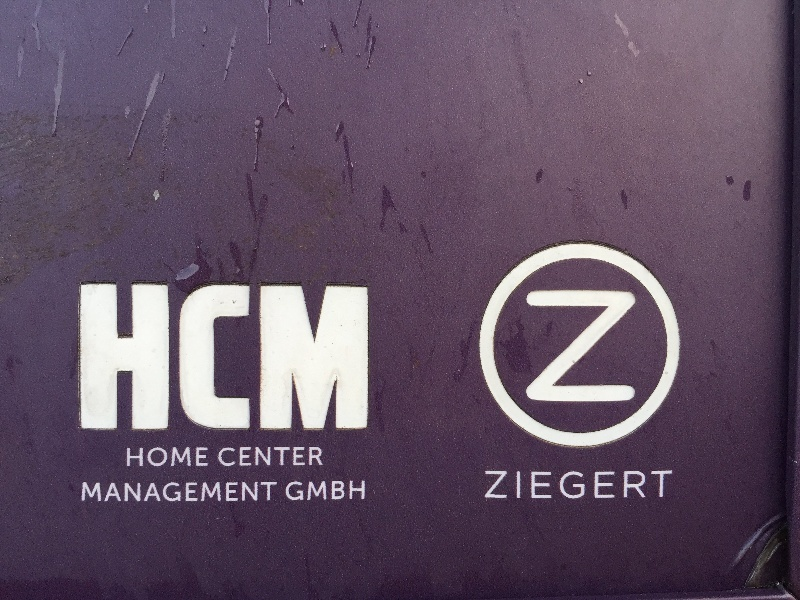text: (353, 282, 369, 433), (81, 282, 96, 433), (97, 282, 112, 433), (113, 282, 128, 433), (129, 282, 144, 433), (145, 282, 160, 433), (161, 282, 176, 433), (177, 282, 192, 433), (193, 282, 208, 433), (209, 282, 224, 433), (225, 282, 240, 433), (241, 282, 256, 433), (257, 282, 272, 433), (273, 282, 288, 433), (289, 282, 304, 433), (305, 282, 320, 433), (321, 282, 336, 433), (337, 282, 352, 433), (529, 290, 544, 404), (545, 290, 560, 404), (561, 290, 576, 404), (577, 290, 592, 404), (593, 290, 608, 404), (609, 290, 624, 404), (625, 290, 637, 404), (497, 470, 512, 501), (513, 470, 528, 501), (529, 470, 544, 501), (545, 470, 560, 501), (561, 470, 576, 501), (577, 470, 592, 501), (593, 470, 608, 501), (609, 470, 624, 501), (625, 470, 640, 501), (641, 470, 656, 501), (657, 470, 672, 501), (485, 470, 496, 501), (289, 481, 304, 502), (305, 481, 320, 502), (321, 481, 336, 502), (337, 481, 352, 502), (97, 482, 112, 503), (113, 482, 128, 503), (129, 482, 144, 503), (145, 482, 160, 503), (161, 482, 176, 503), (177, 482, 192, 503), (193, 482, 208, 503), (209, 482, 224, 503), (225, 482, 240, 503), (241, 482, 256, 503), (257, 482, 272, 503), (225, 447, 240, 467), (241, 447, 256, 467), (257, 447, 272, 467), (273, 447, 288, 467), (289, 447, 304, 467), (305, 447, 320, 467), (129, 447, 144, 467), (145, 447, 160, 467), (161, 447, 176, 467), (177, 447, 192, 467), (193, 447, 208, 467), (82, 482, 96, 503), (353, 481, 365, 502), (526, 290, 528, 404), (79, 282, 80, 433), (273, 482, 279, 503), (218, 447, 224, 467), (286, 481, 288, 502), (321, 447, 323, 467), (673, 470, 674, 501), (127, 447, 128, 467)
